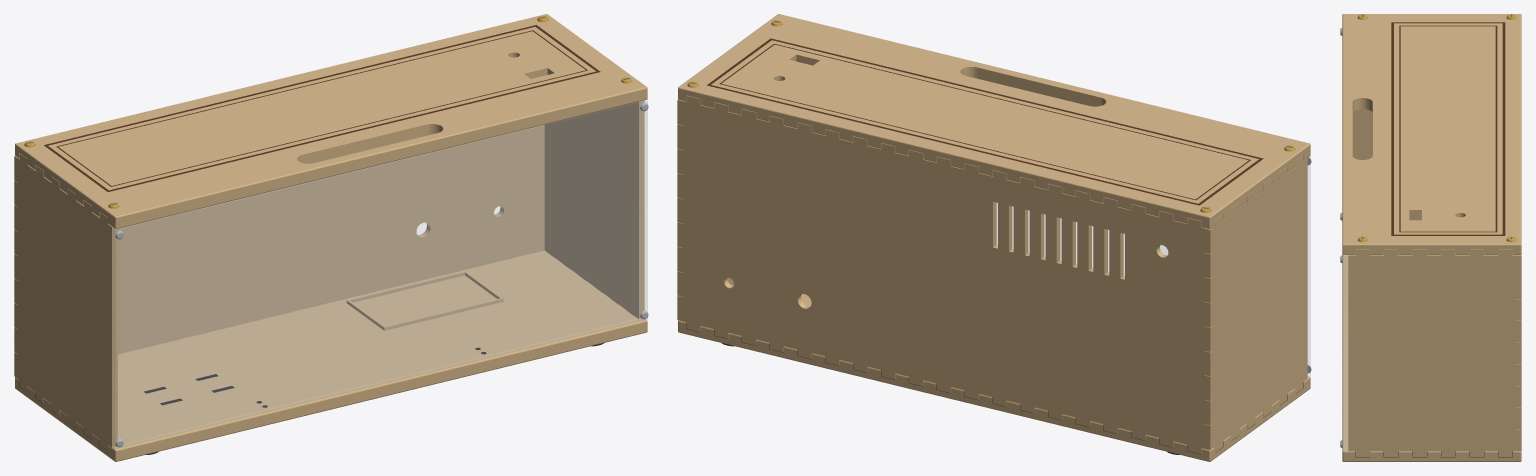
The model's file is housing.glb.
The picture shows the model from 3 angles, left to right: view 1: azimuth 30°, elevation 25°; view 2: azimuth 150°, elevation 25°; view 3: azimuth 270°, elevation 25°; orthographic projection. The views are drawn at different scales.
Visible parts, largest first — view 1: housing_front, housing_walls, housing_lid, housing_base; view 2: housing_walls, housing_lid, housing_base, housing_front; view 3: housing_lid, housing_walls, housing_base, housing_front.
Part boxes in pixels (x1,y1,x2,y2): housing_front: [112, 100, 648, 449]; housing_walls: [14, 100, 644, 450]; housing_lid: [15, 14, 647, 228]; housing_base: [15, 250, 647, 461]; housing_walls: [677, 95, 1307, 454]; housing_lid: [678, 14, 1310, 228]; housing_base: [678, 285, 1310, 461]; housing_front: [997, 156, 1311, 377]; housing_lid: [1342, 14, 1521, 254]; housing_walls: [1348, 109, 1521, 456]; housing_base: [1342, 255, 1521, 461]; housing_front: [1340, 28, 1347, 450].
Bounding box in the file's own units: 0.268 × 0.1222 × 0.089.
